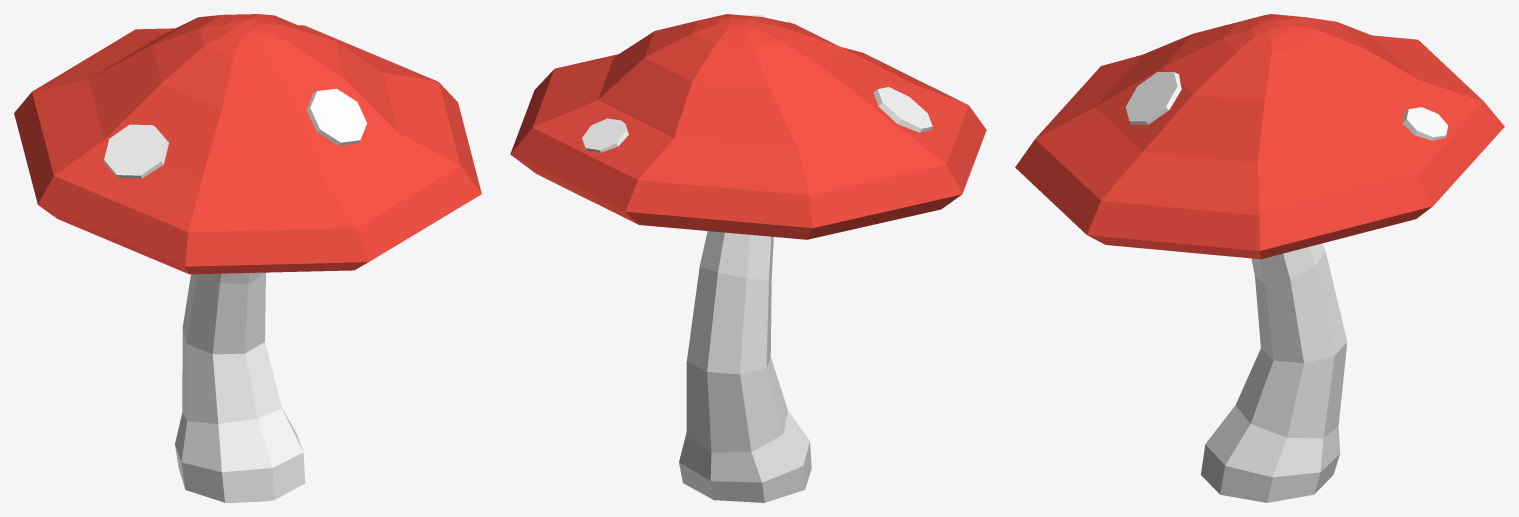
3 views of the same model, side by side, from view 1: azimuth 30°, elevation 25°; view 2: azimuth 150°, elevation 25°; view 3: azimuth 270°, elevation 25° (orthographic).
Parts seen in each view (by area): view 1: node-0; view 2: node-0; view 3: node-0.
Part boxes in pixels (box(x1,y1,x2,y2)): node-0: box(14, 14, 481, 502); node-0: box(510, 14, 986, 502); node-0: box(1015, 14, 1504, 502).
Size of the model in its own units: 9.59 by 9.98 by 9.55.
